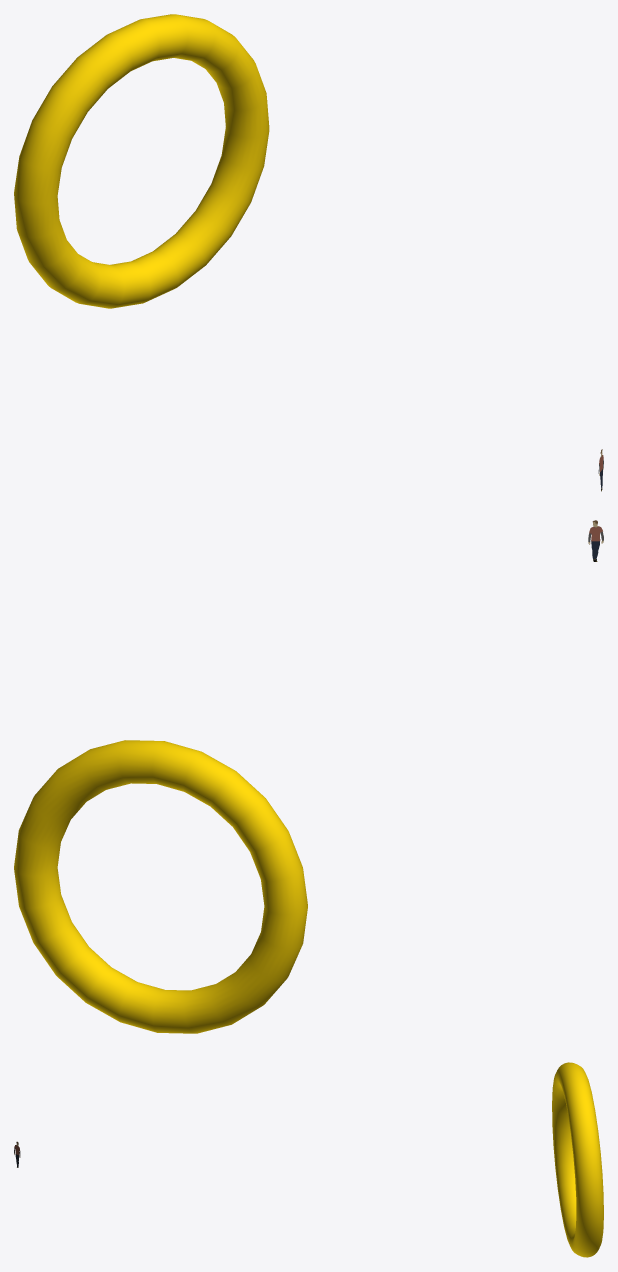
The model's file is SonicRing_asset.fbx.
3 views of the same model, one above another, from view 1: azimuth 30°, elevation 25°; view 2: azimuth 150°, elevation 25°; view 3: azimuth 270°, elevation 25° (orthographic). The views are drawn at different scales.
Visible parts, largest first — view 1: Model; view 2: Model; view 3: Model.
Boxes of the visible parts, <box> form: Model: <box>14,14,269,308</box>; Model: <box>14,740,307,1033</box>; Model: <box>552,1062,603,1257</box>.
Size of the model in its own units: 480 by 484 by 1456.
